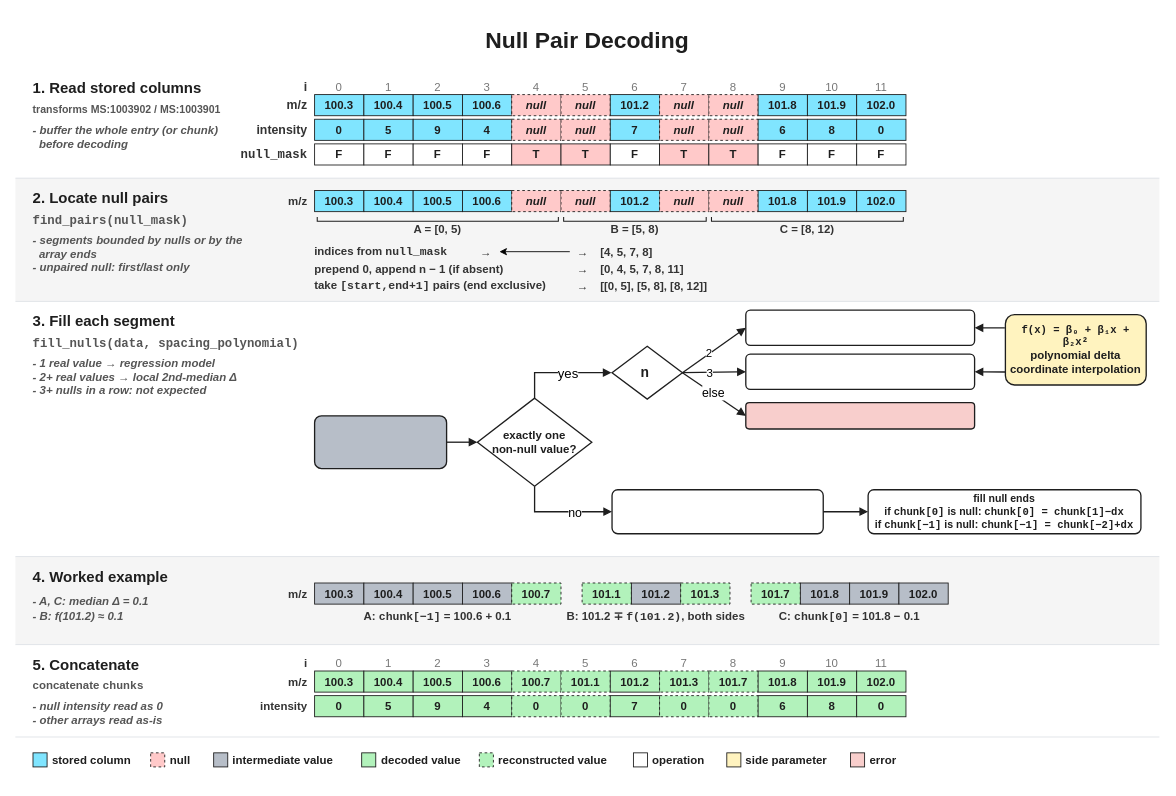
Some shapes in this 1176 by 796 pixel diagram are drawn without their labels. Here are the shapes that lost their labels. From the top down, the centre of each, then its label:
At (x=860, y=327): "pad the null side x₀ = x₁ − f(x₁) or x₁ = x₀ + f(x₀)".
At (x=860, y=371): "pad both sides dx = f(x₁); x₀ = x₁ − dx; x₂ = x₁ + dx".
At (x=860, y=415): "unrecoverable → raise".
At (x=380, y=442): "segment chunk data[start:end] , n=end-start values".
At (x=717, y=511): "dx = estimate_median_delta(real) 2nd median of diff(non-null values)".
